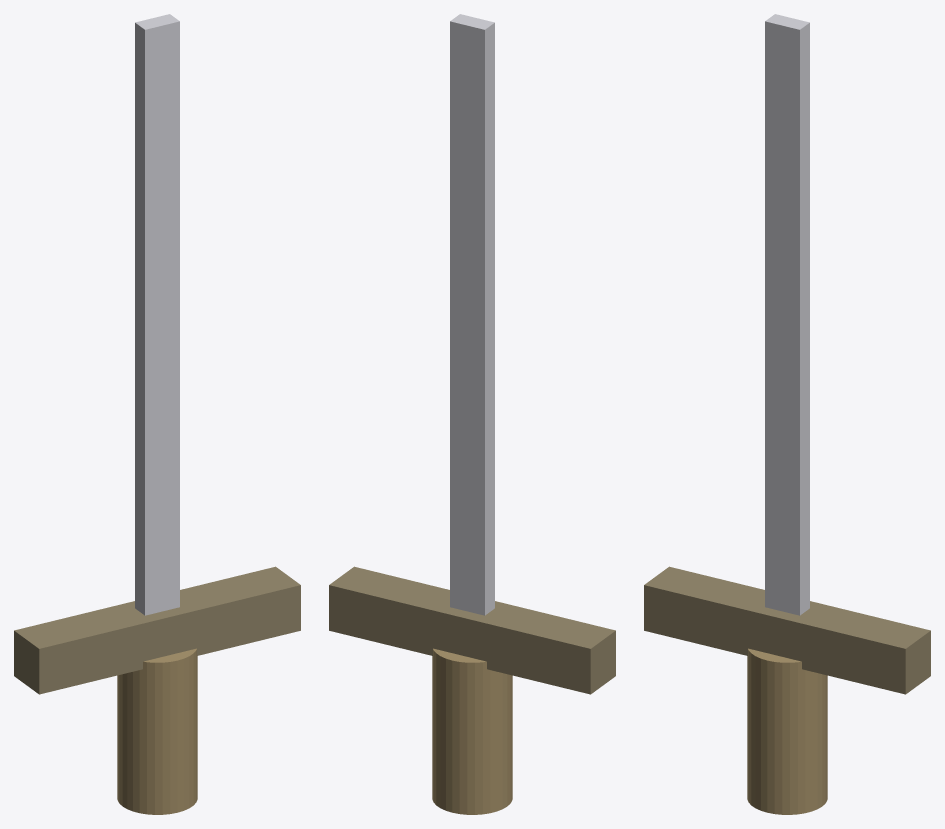
The model's file is swords.glb.
3 views of the same model, side by side, from view 1: azimuth 30°, elevation 25°; view 2: azimuth 150°, elevation 25°; view 3: azimuth 330°, elevation 25° (orthographic).
Parts seen in each view (by area): view 1: blade, crossguard, hilt; view 2: blade, crossguard, hilt; view 3: blade, crossguard, hilt.
Part boxes in pixels (left/top/right/bottom): blade: left=135, top=14, right=179, bottom=615; crossguard: left=14, top=566, right=300, bottom=694; hilt: left=117, top=648, right=197, bottom=814; blade: left=450, top=14, right=494, bottom=615; crossguard: left=329, top=566, right=615, bottom=694; hilt: left=432, top=648, right=512, bottom=814; blade: left=765, top=14, right=809, bottom=615; crossguard: left=644, top=566, right=930, bottom=694; hilt: left=747, top=648, right=827, bottom=814.
Size of the model in its own units: 0.09 by 0.255 by 0.024.
